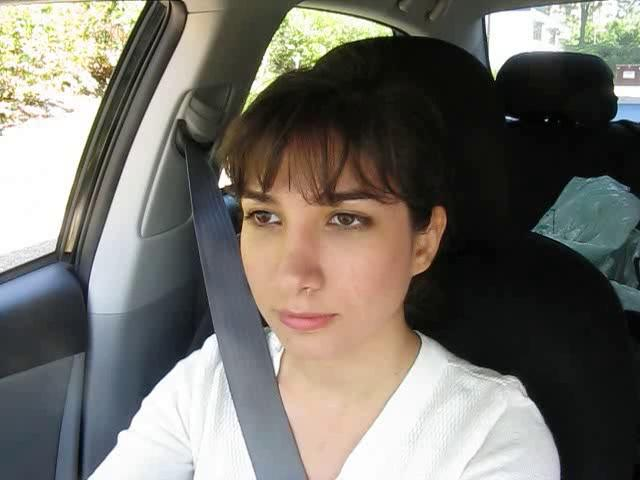no_yawn: (259, 297, 350, 341)
open_eyeL: (238, 196, 295, 236)
open_eyeR: (316, 199, 390, 239)
